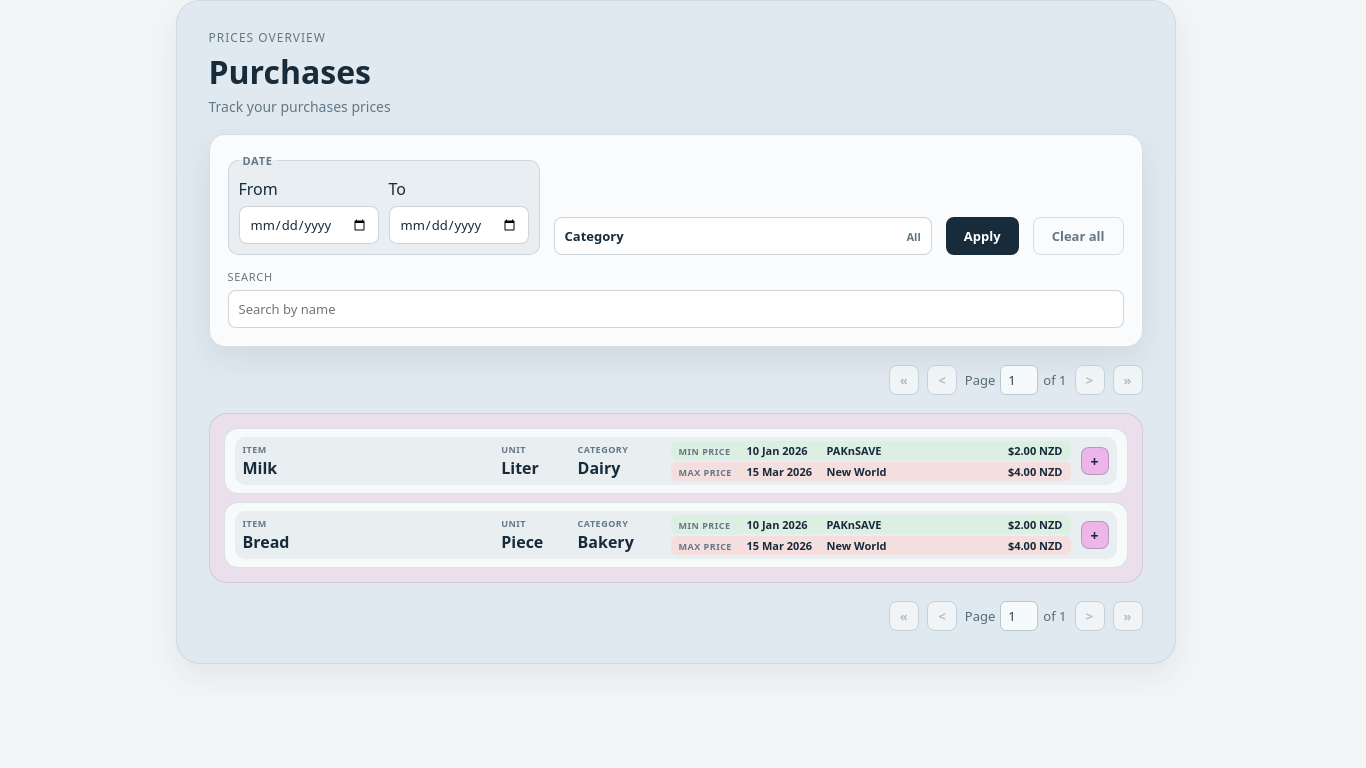
it: Purchases › shows error and empty states in prices history
Step 1. Click the button named "Show prices history of Milk" → (1094, 461), box [1080,447,1108,475]
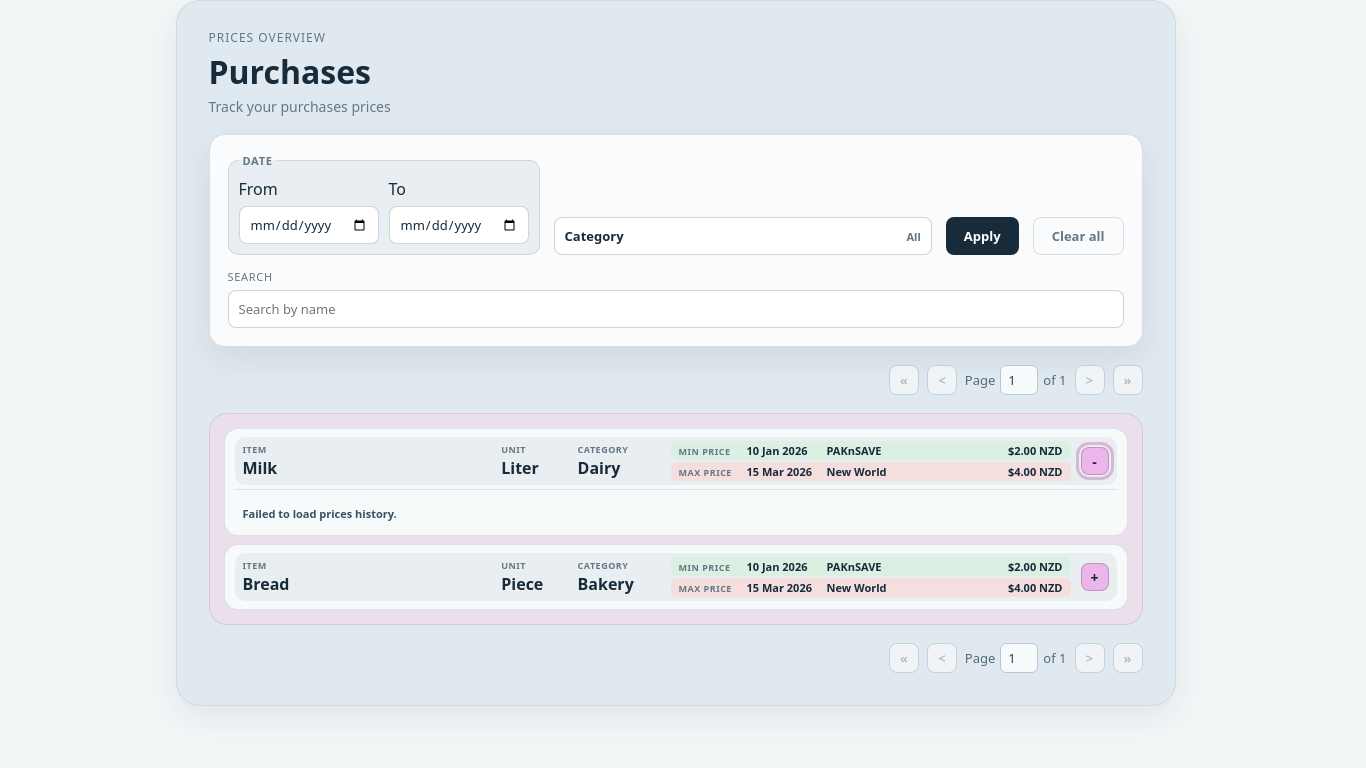
Check: the text "Failed to load prices history." is shown, box [242,506,397,521]
Step 2. Click the button named "Show prices history of Bread" → (1094, 577), box [1080,563,1108,591]
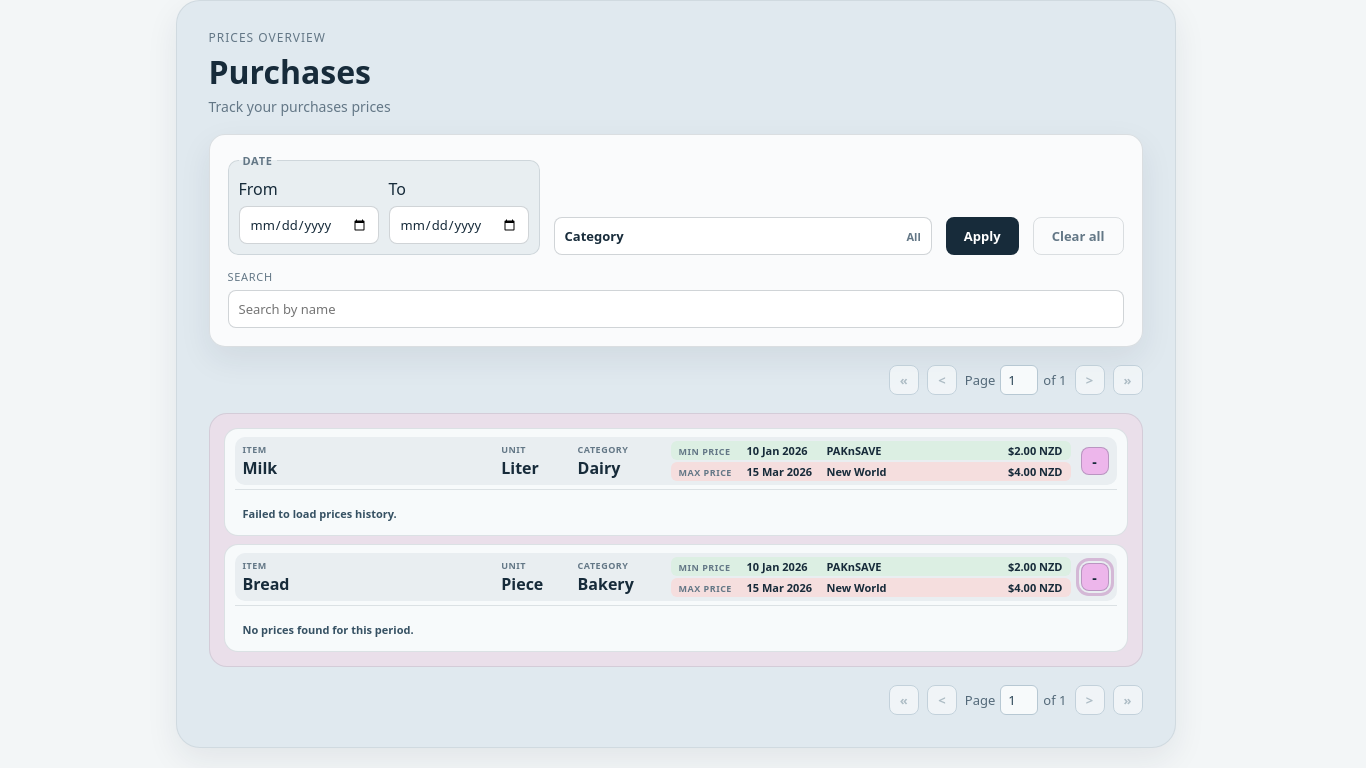
Check: the text "No prices found for this period." is shown, box [242,622,414,637]
